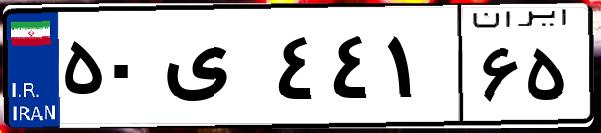0: (110, 28, 158, 98)
1: (385, 28, 445, 110)
4: (270, 28, 330, 110), (330, 28, 385, 110)
5: (57, 26, 110, 100), (525, 38, 570, 115)
6: (475, 38, 525, 113)
ی: (158, 20, 270, 120)
